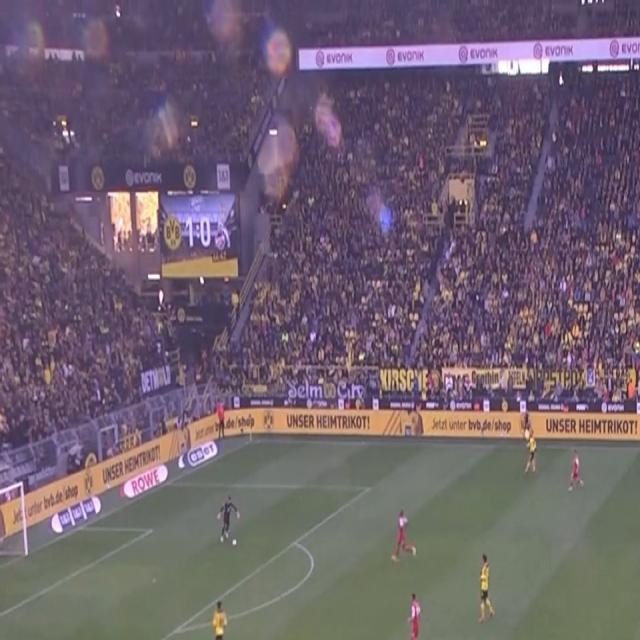ball: (232, 537, 238, 549)
